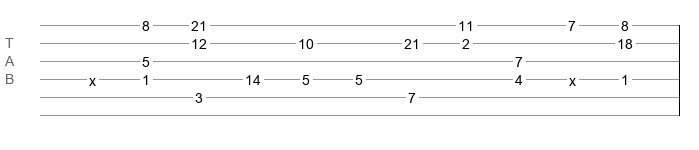1: (142, 72, 150, 82), (621, 72, 629, 82)
10: (298, 36, 314, 46)
11: (458, 18, 474, 28)
12: (191, 36, 207, 46)
14: (245, 72, 261, 82)
18: (617, 36, 633, 46)
2: (462, 36, 470, 46)
21: (191, 18, 207, 28), (404, 36, 420, 46)
3: (195, 90, 203, 100)
4: (515, 72, 523, 82)
5: (142, 54, 150, 64), (302, 72, 310, 82), (355, 72, 363, 82)
7: (408, 90, 416, 100), (515, 54, 523, 64), (568, 18, 576, 28)
8: (142, 18, 150, 28), (621, 18, 629, 28)
x: (89, 73, 96, 81), (569, 73, 576, 81)
